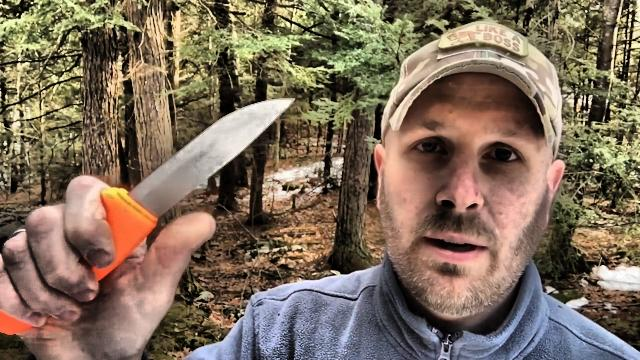knife: (59, 92, 301, 282)
